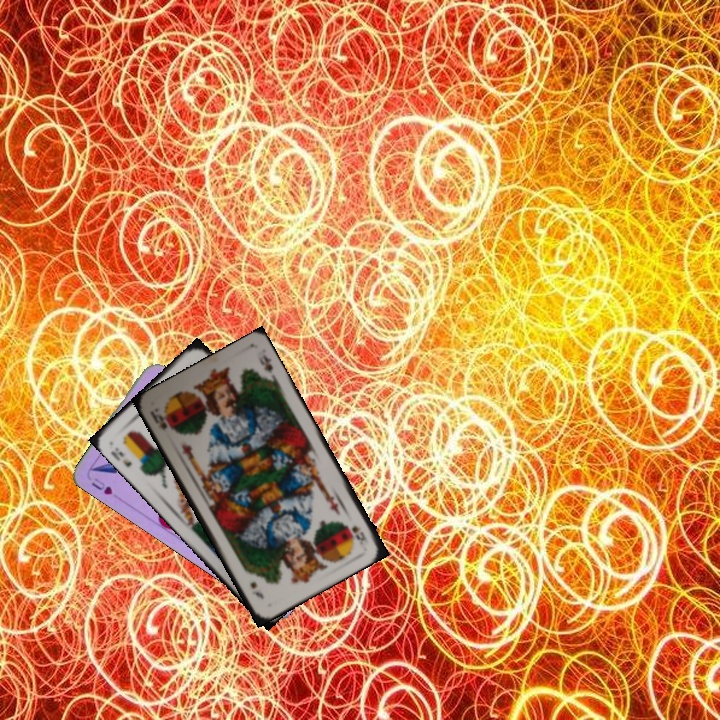EK: (107, 443, 134, 470)
HU: (87, 473, 115, 497)
SK: (146, 406, 175, 433), (347, 522, 371, 547)
